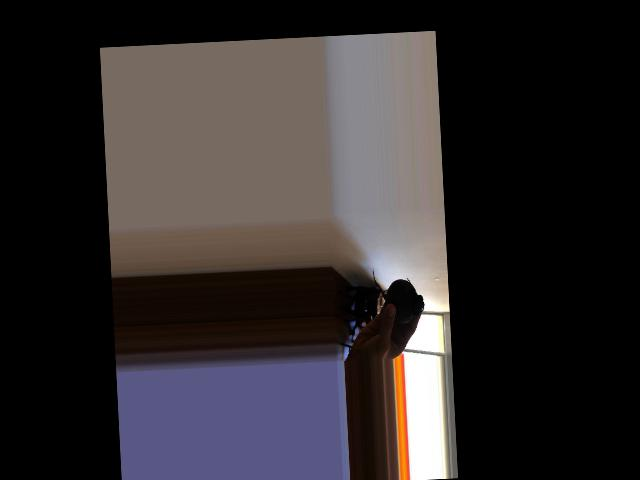beet: (372, 265, 425, 324)
